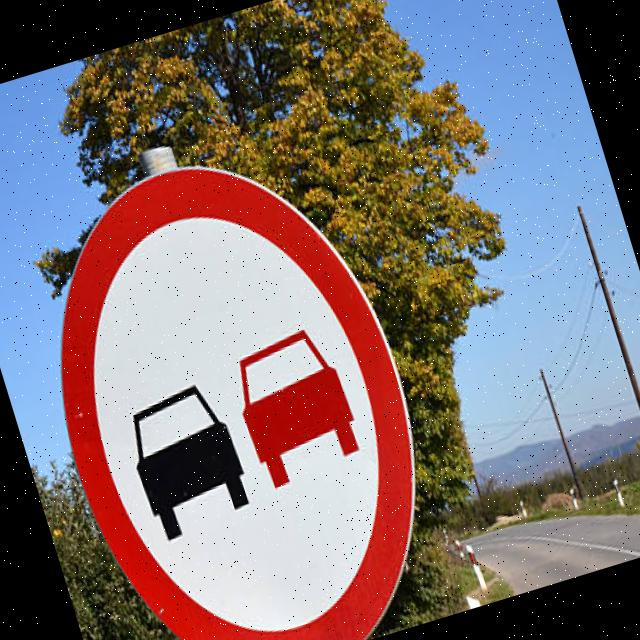no_passing: (0, 111, 470, 640)
